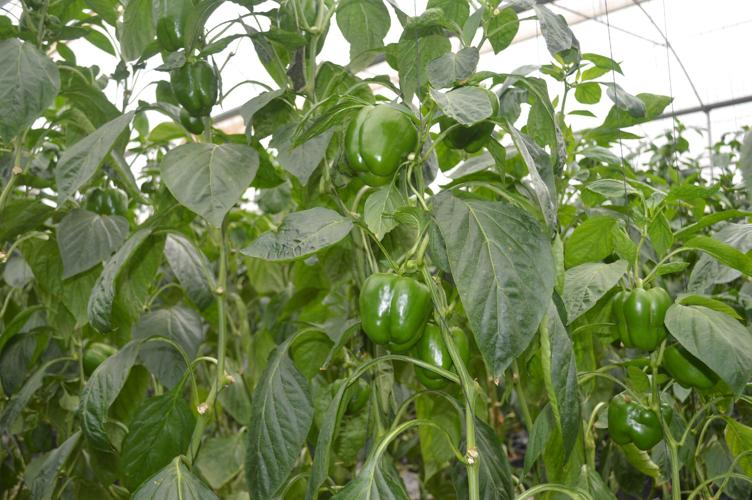BellPepper: (336, 102, 420, 185), (355, 267, 432, 351), (601, 385, 687, 453), (604, 283, 677, 355), (408, 324, 477, 387), (164, 54, 227, 121), (659, 341, 722, 395)
